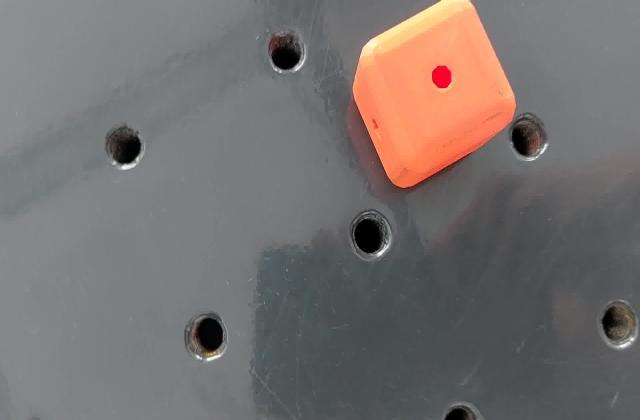cube: (350, 3, 518, 193)
